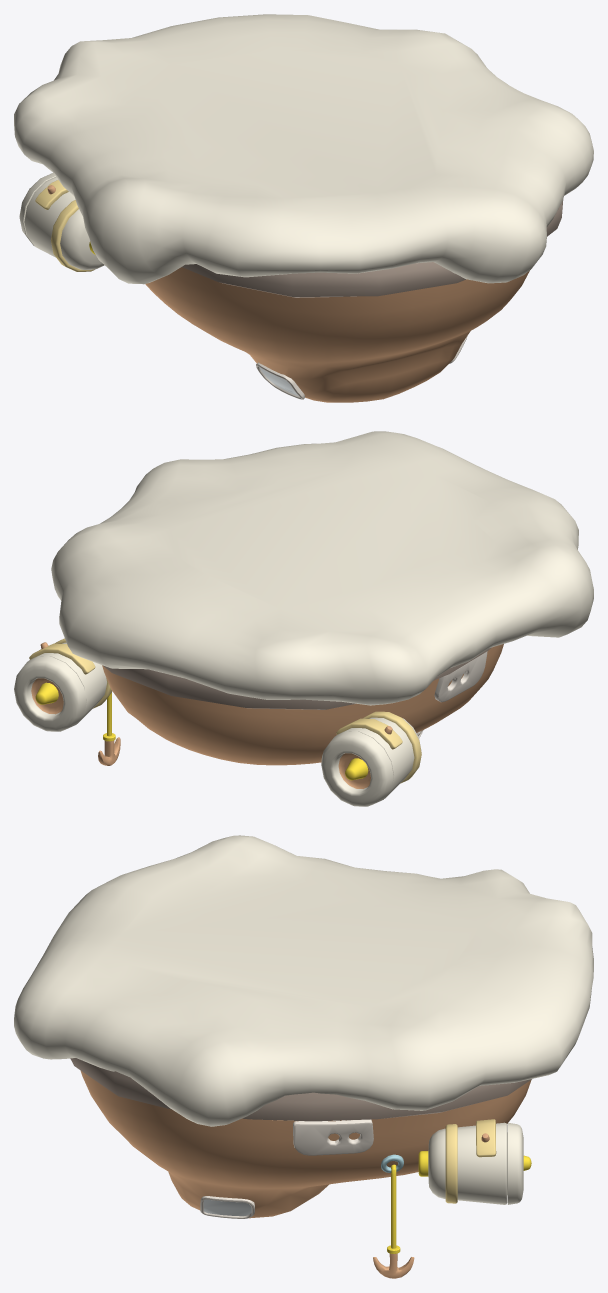
3 views of the same model, one above another, from view 1: azimuth 30°, elevation 25°; view 2: azimuth 150°, elevation 25°; view 3: azimuth 270°, elevation 25° (orthographic). The views are drawn at different scales.
Visible parts, largest first — view 1: Retopo_Group4093, Retopo_MeshBoolean_v1, Retopo_立方体, 圆柱_1_2, 圆柱_4, MeshBoolean_v1_1; view 2: Retopo_Group4093, Retopo_MeshBoolean_v1, 圆柱_2_3, 圆柱_2_2, Retopo_立方体, 圆柱_1_2, MB___细分曲面, 圆柱_1, 圆柱_4, 圆柱_3_3, 圆柱_3; view 3: Retopo_Group4093, Retopo_MeshBoolean_v1, Retopo_立方体, 圆柱_1, MB___细分曲面_1, 圆柱_2_2, 圆柱_2, 圆柱_3, 挤压, Retopo_立方体_3.
Boxes of the visible parts, x1,y1,x2,y2 form: Retopo_Group4093: [14, 14, 593, 284]; Retopo_MeshBoolean_v1: [145, 267, 529, 402]; Retopo_立方体: [182, 200, 563, 297]; 圆柱_1_2: [24, 177, 104, 269]; 圆柱_4: [51, 200, 94, 271]; MeshBoolean_v1_1: [256, 336, 467, 399]; Retopo_Group4093: [51, 431, 593, 705]; Retopo_MeshBoolean_v1: [102, 644, 503, 765]; 圆柱_2_3: [321, 731, 393, 806]; 圆柱_2_2: [14, 656, 86, 731]; Retopo_立方体: [103, 647, 491, 709]; 圆柱_1_2: [336, 717, 421, 798]; MB___细分曲面: [434, 651, 487, 702]; 圆柱_1: [29, 642, 106, 723]; 圆柱_4: [363, 711, 421, 783]; 圆柱_3_3: [336, 718, 402, 749]; 圆柱_3: [29, 643, 95, 674]; Retopo_Group4093: [14, 835, 593, 1126]; Retopo_MeshBoolean_v1: [80, 1070, 531, 1218]; Retopo_立方体: [70, 1058, 531, 1121]; 圆柱_1: [428, 1122, 507, 1204]; MB___细分曲面_1: [293, 1119, 373, 1155]; 圆柱_2_2: [507, 1122, 523, 1204]; 圆柱_2: [445, 1124, 457, 1203]; 圆柱_3: [476, 1119, 496, 1157]; 挤压: [203, 1199, 251, 1216]; Retopo_立方体_3: [373, 1253, 414, 1278].
Bounding box in the file's own units: 0.5598 × 0.2904 × 0.5985.
